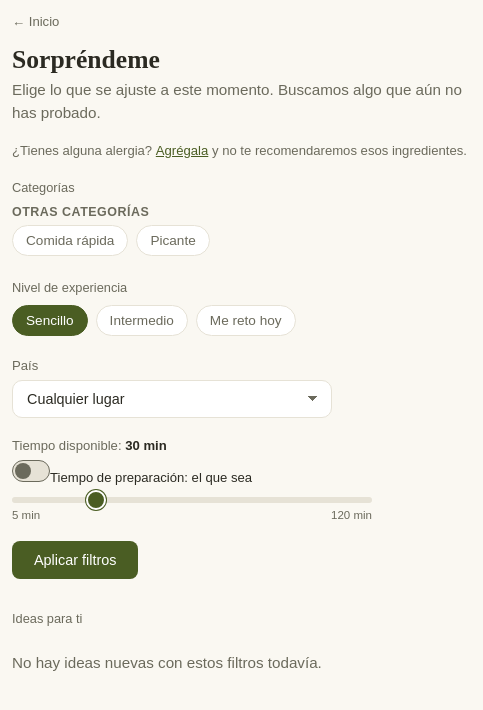
SurpriseComponent (consume la API real) › muestra un mensaje claro si el backend no responde
The width and height of the screenshot is (483, 710).
Click the button "Aplicar filtros".
click(75, 560)  # box [12,541,138,579]
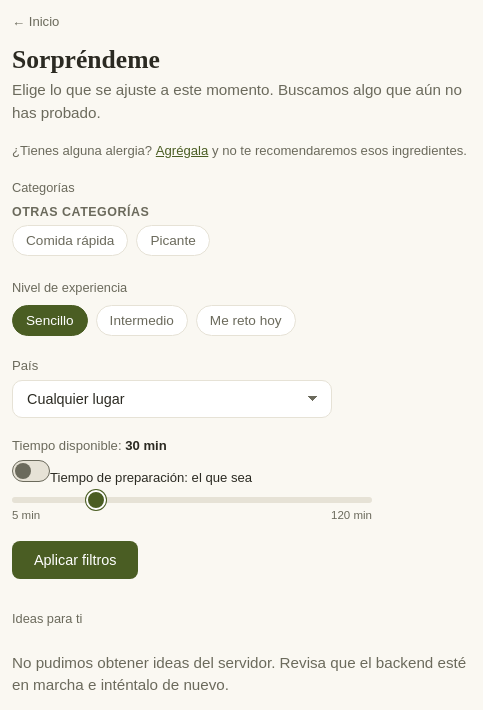
Now the message shows "backend", box [12,654,466,693]
